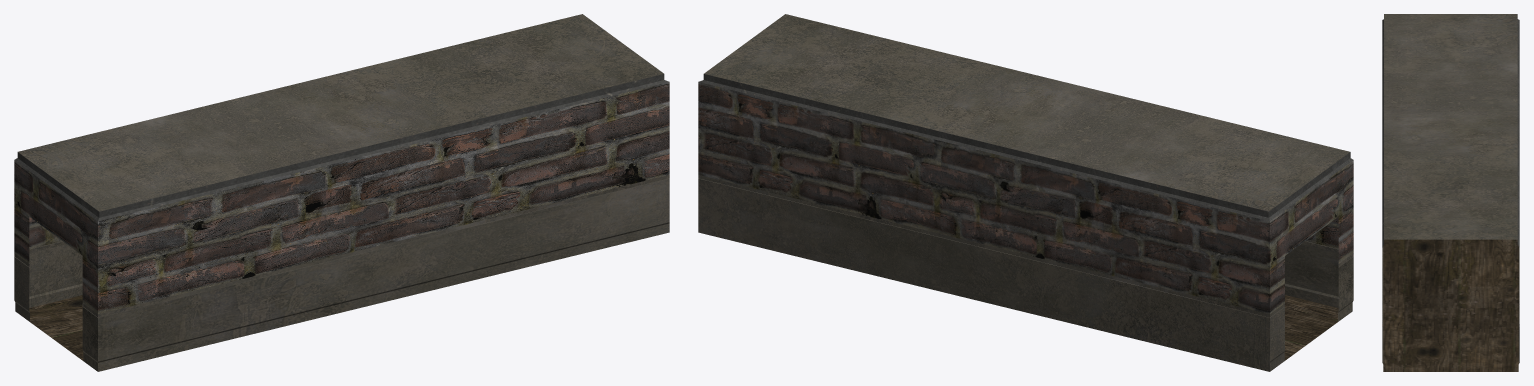
File: Pasillo.fbx
3 views of the same model, side by side, from view 1: azimuth 30°, elevation 25°; view 2: azimuth 150°, elevation 25°; view 3: azimuth 270°, elevation 25° (orthographic). The views are drawn at different scales.
Visible parts, largest first — view 1: PasilloInicial; view 2: PasilloInicial; view 3: PasilloInicial.
Part boxes in pixels (x1,y1,x2,y2): PasilloInicial: (14, 14, 669, 371); PasilloInicial: (698, 14, 1353, 371); PasilloInicial: (1382, 14, 1519, 371).
Size of the model in its own units: 1130 by 301 by 287.
4 materials, 4 textured.
